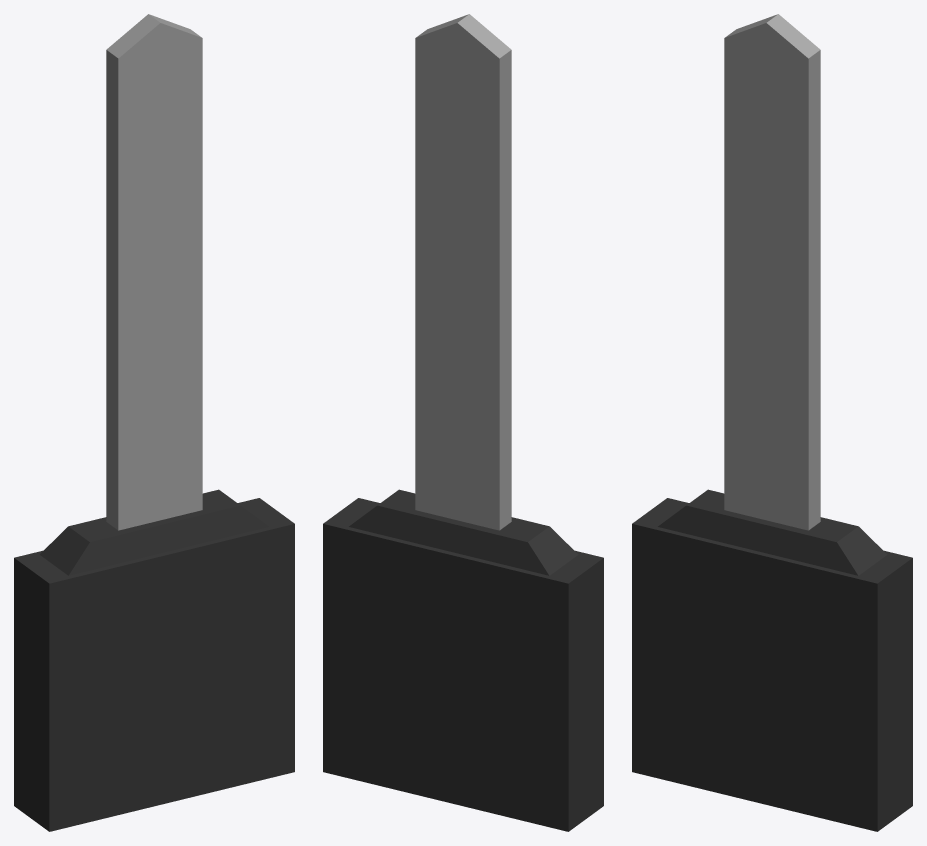
Rendered from truck_key.obj.
The picture shows the model from 3 angles, left to right: view 1: azimuth 30°, elevation 25°; view 2: azimuth 150°, elevation 25°; view 3: azimuth 330°, elevation 25°; orthographic projection.
Parts seen in each view (by area): view 1: truck_key; view 2: truck_key; view 3: truck_key.
Part boxes in pixels (box(x1,y1,x2,y2)): truck_key: box(14, 14, 294, 831); truck_key: box(323, 14, 603, 831); truck_key: box(632, 14, 912, 831).
Size of the model in its own units: 0.4 by 1.2 by 0.1.
1 material, 1 textured.
